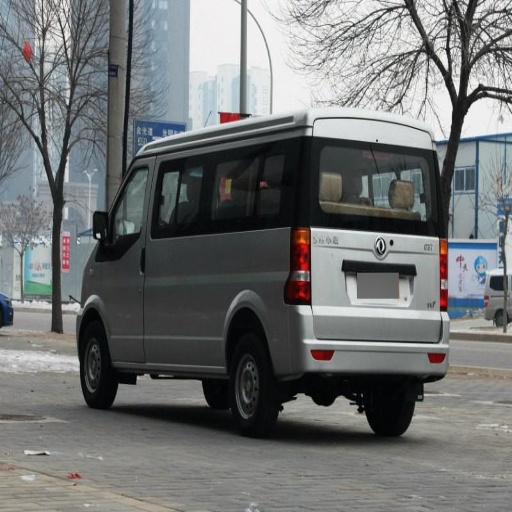back_bumper: (300, 335, 448, 378)
back_left_light: (285, 228, 311, 304)
tailgate: (325, 206, 425, 231)
trunk: (176, 216, 439, 373)
